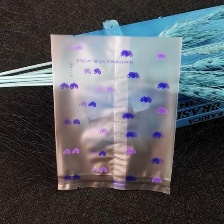snack: (41, 27, 188, 201)
